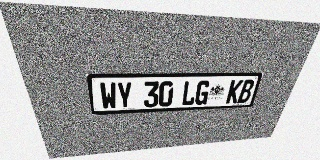0: (158, 81, 174, 107)
3: (144, 81, 159, 107)
B: (237, 80, 255, 103)
G: (194, 80, 211, 105)
K: (225, 80, 243, 104)
L: (181, 81, 198, 106)
W: (99, 82, 117, 110)
Y: (116, 82, 132, 109)
